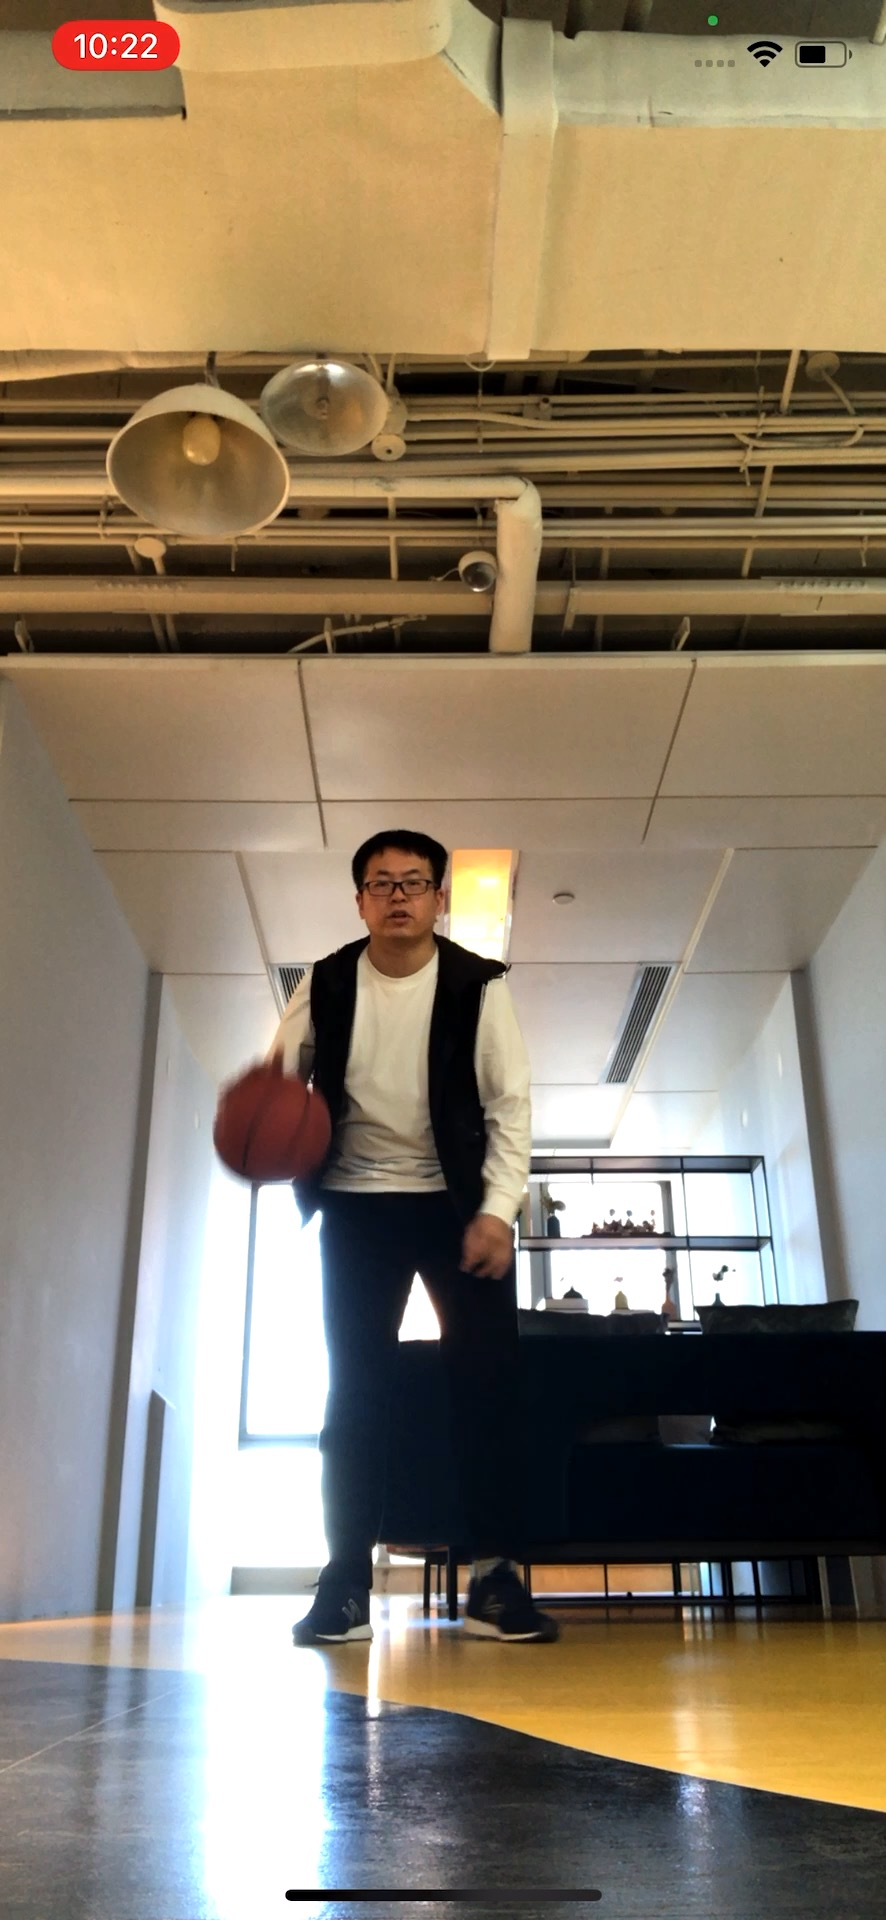ball: (218, 1063, 333, 1182)
